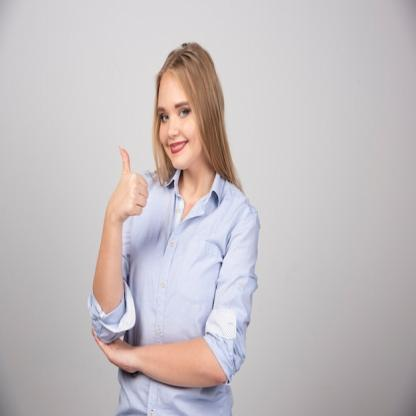thumb_up: (111, 142, 150, 220)
